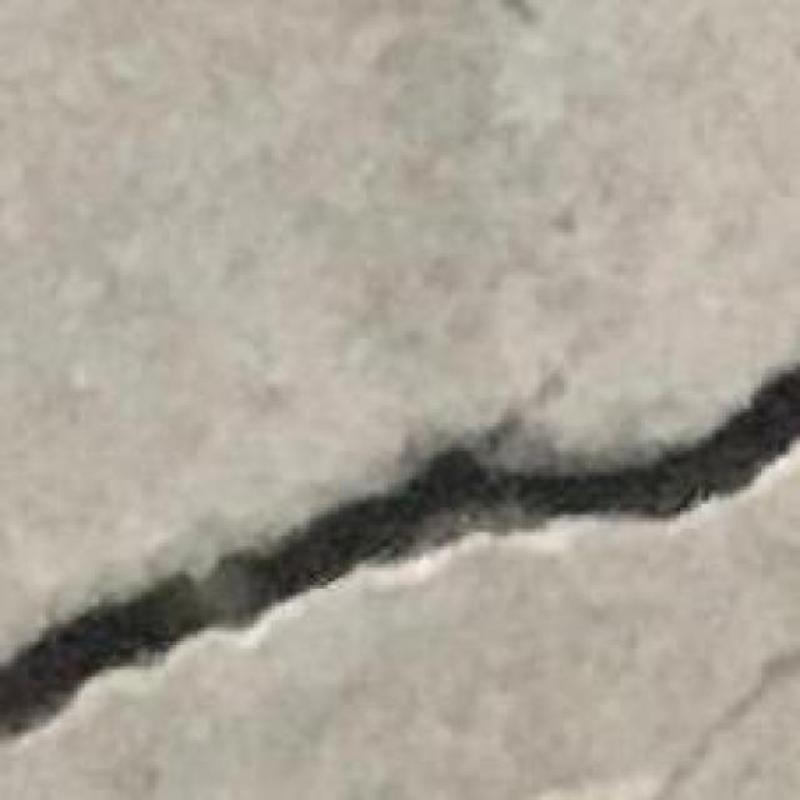pothole: (0, 364, 799, 740)
